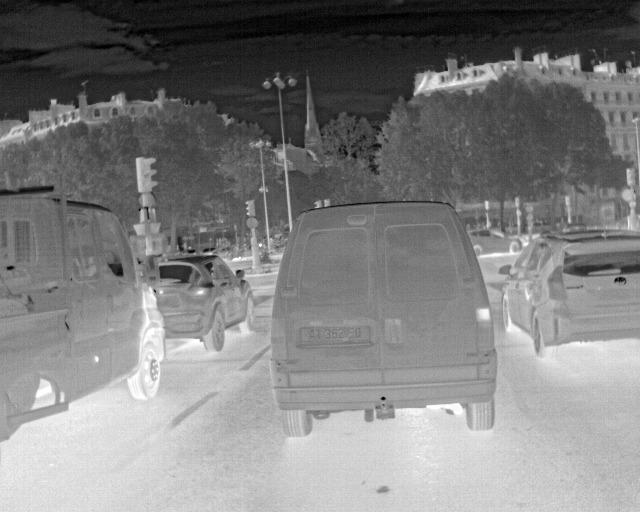car: (268, 198, 497, 438), (0, 184, 166, 443), (497, 228, 639, 360), (150, 254, 258, 353), (466, 228, 523, 257), (211, 246, 239, 261), (200, 247, 217, 255), (187, 248, 197, 256)
light: (141, 157, 159, 189), (626, 167, 636, 186), (150, 221, 162, 234), (133, 223, 145, 236), (565, 196, 571, 206), (245, 201, 249, 216), (514, 197, 520, 206), (313, 201, 319, 208)
sign: (138, 207, 157, 223), (138, 192, 156, 207), (246, 217, 259, 229), (622, 189, 633, 202), (526, 213, 533, 221), (526, 205, 533, 212)
